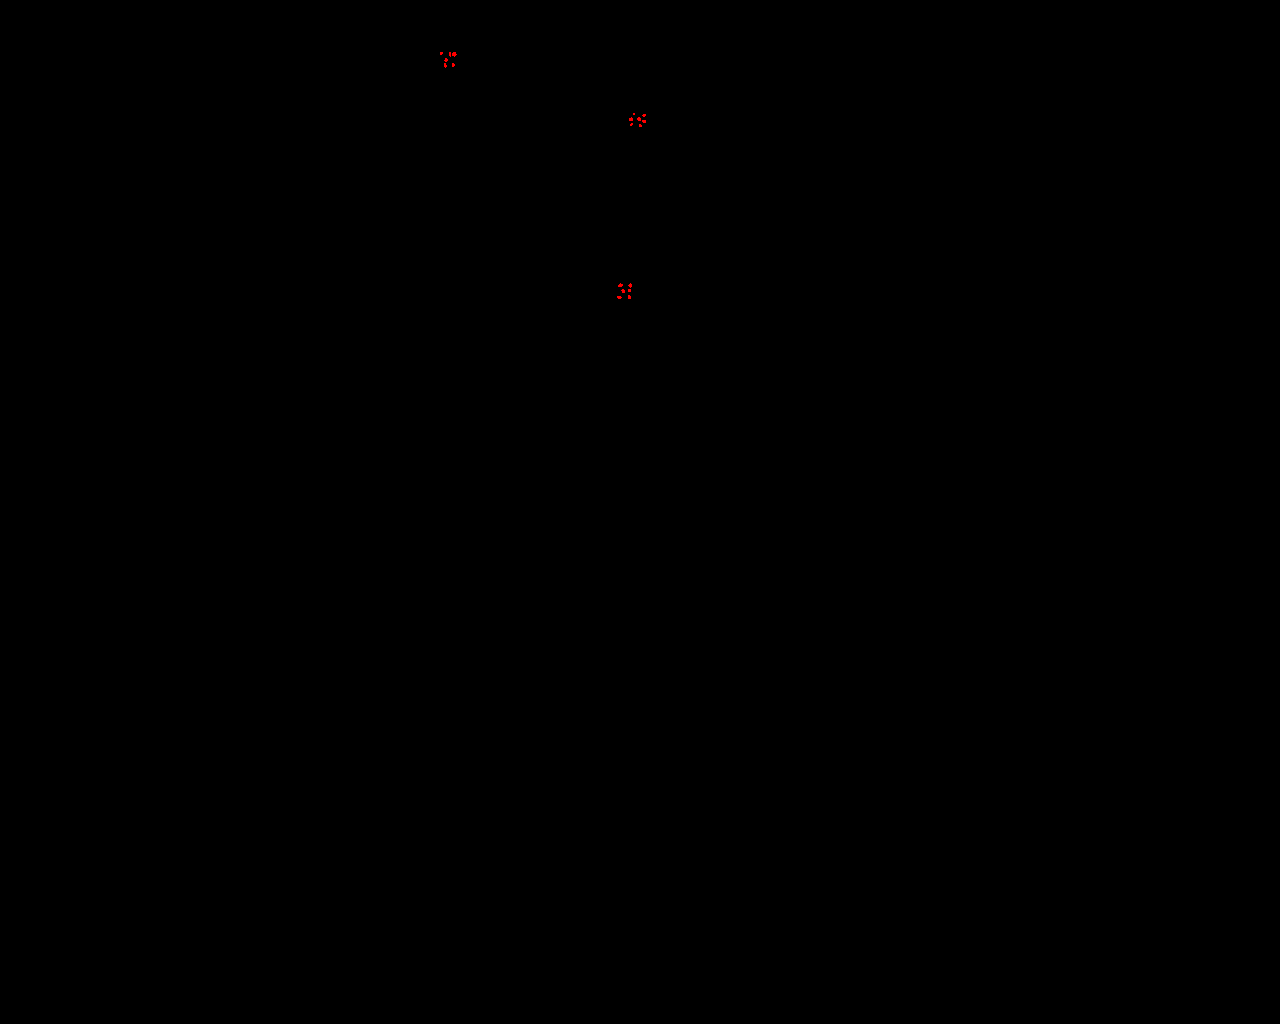Target: (452, 52, 457, 57), (618, 283, 623, 287), (628, 283, 632, 288), (629, 117, 633, 121), (444, 63, 447, 68), (616, 296, 622, 299), (444, 59, 448, 62), (642, 114, 646, 117), (637, 117, 641, 121), (642, 120, 646, 123), (621, 289, 625, 293), (628, 295, 631, 299), (449, 52, 451, 57), (440, 52, 443, 55), (630, 123, 633, 126), (452, 63, 455, 67), (639, 124, 642, 127), (628, 289, 631, 292), (633, 113, 635, 115)
